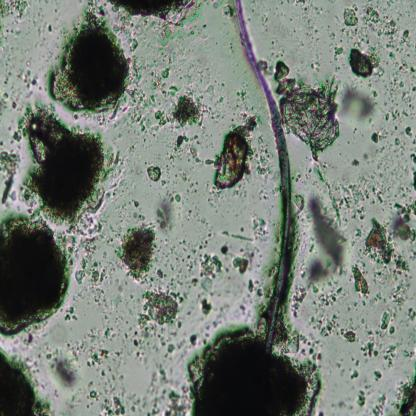Background material: (50, 9, 148, 130), (188, 326, 320, 415), (30, 106, 119, 227), (0, 211, 78, 340), (270, 60, 341, 160), (340, 3, 416, 79), (295, 188, 347, 291), (147, 63, 211, 136), (216, 110, 268, 197), (126, 289, 189, 354), (360, 199, 416, 271), (316, 162, 385, 219), (0, 346, 54, 414), (108, 1, 199, 36), (115, 226, 166, 288), (70, 223, 109, 303), (310, 289, 359, 345), (166, 225, 210, 284), (194, 244, 227, 320), (231, 214, 269, 278), (144, 363, 188, 414), (80, 328, 120, 381), (44, 340, 82, 390), (338, 85, 380, 125), (382, 81, 416, 126), (171, 135, 214, 169), (0, 97, 33, 141), (387, 274, 416, 324), (86, 382, 127, 415), (0, 141, 20, 206), (349, 42, 384, 79), (362, 333, 396, 369), (157, 193, 183, 240), (394, 372, 416, 414), (171, 164, 202, 193), (0, 1, 35, 25), (12, 66, 41, 92), (349, 265, 371, 295), (122, 199, 148, 224), (327, 27, 345, 62), (377, 305, 396, 336), (294, 2, 317, 23), (148, 162, 167, 186), (232, 88, 250, 113), (371, 391, 389, 415), (212, 0, 235, 18), (184, 327, 202, 348), (372, 126, 389, 148), (348, 354, 361, 382), (407, 154, 416, 194), (354, 385, 367, 408), (64, 308, 80, 323), (340, 358, 352, 378), (371, 368, 383, 384), (347, 156, 362, 166), (404, 124, 414, 137), (130, 146, 138, 156)
Microfibre: (232, 0, 293, 355)
